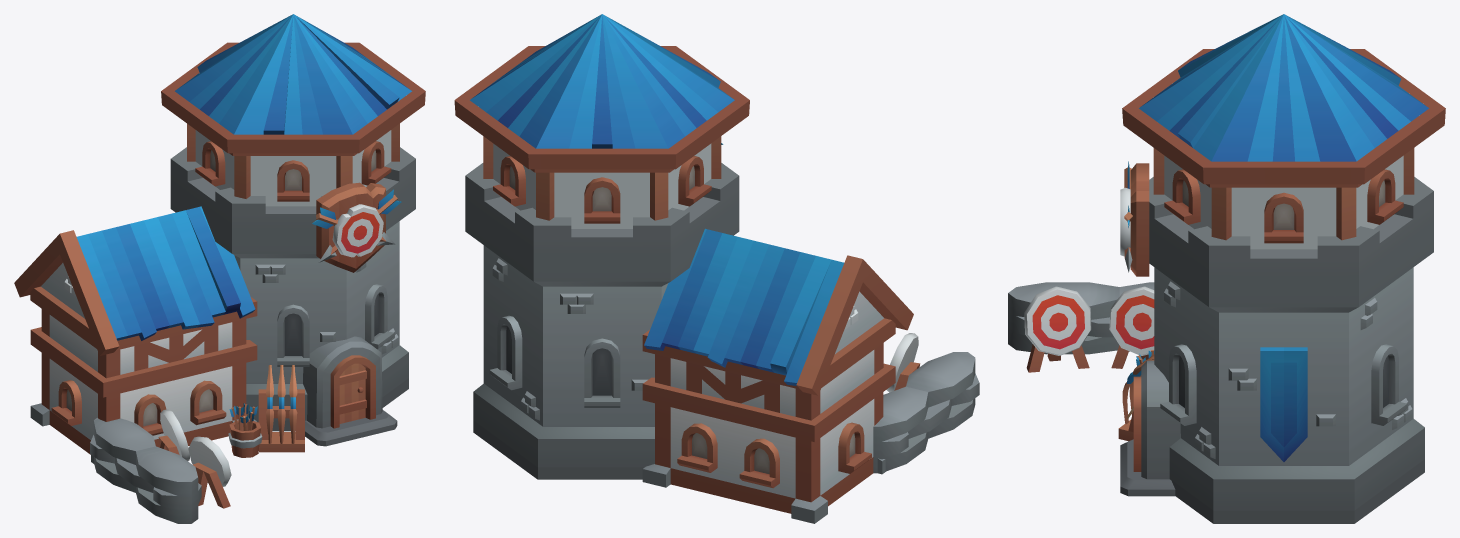
The model's file is building_archeryrange_blue.glb.
3 views of the same model, side by side, from view 1: azimuth 30°, elevation 25°; view 2: azimuth 150°, elevation 25°; view 3: azimuth 270°, elevation 25° (orthographic). The views are drawn at different scales.
Visible parts, largest first — view 1: building_archeryrange_blue; view 2: building_archeryrange_blue; view 3: building_archeryrange_blue.
Part boxes in pixels (bbox=[...]): building_archeryrange_blue: bbox=[14, 14, 425, 523]; building_archeryrange_blue: bbox=[454, 14, 979, 523]; building_archeryrange_blue: bbox=[1008, 14, 1445, 523].
Size of the model in its own units: 1.67 by 1.79 by 1.55.
Materials: 1 (1 with a texture image).
